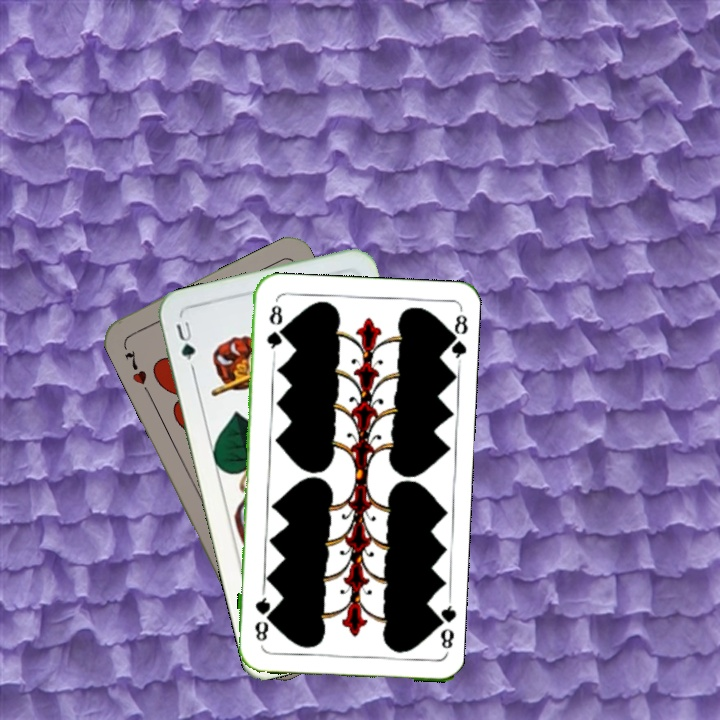G8: (430, 596, 458, 651), (263, 301, 285, 357)
GU: (171, 317, 198, 373)
H7: (120, 346, 150, 387)
